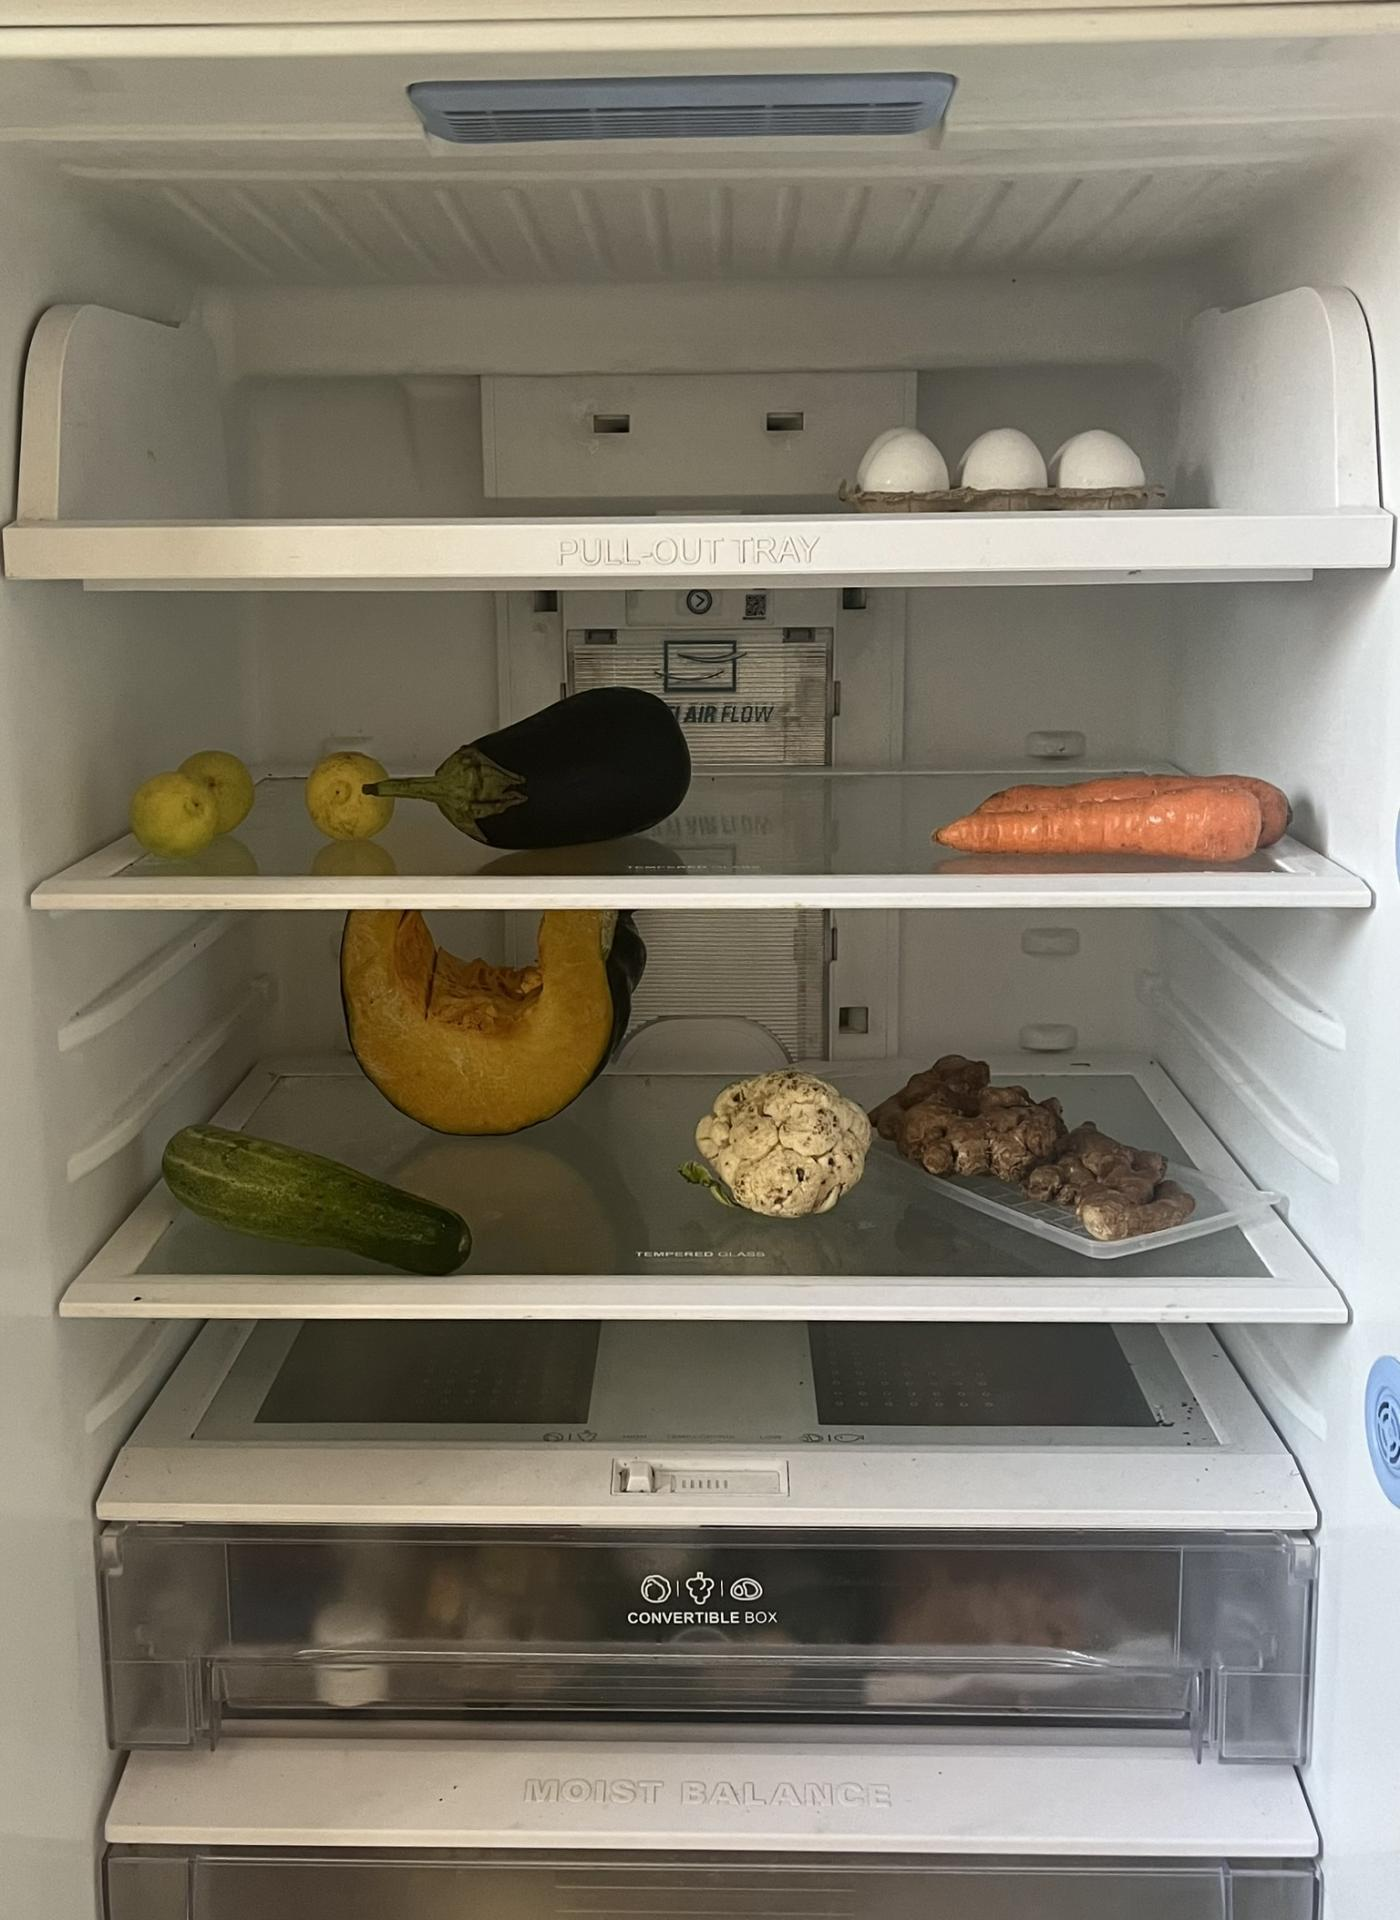brinjal: (385, 693, 698, 841)
carrots: (933, 772, 1290, 857)
cauliflower: (689, 1070, 872, 1213)
cucumber: (151, 1130, 479, 1272)
egg: (854, 425, 1154, 507)
ginger: (871, 1052, 1185, 1237)
lemon: (124, 748, 258, 856), (309, 744, 395, 836)
pumpkin: (332, 917, 638, 1146)
